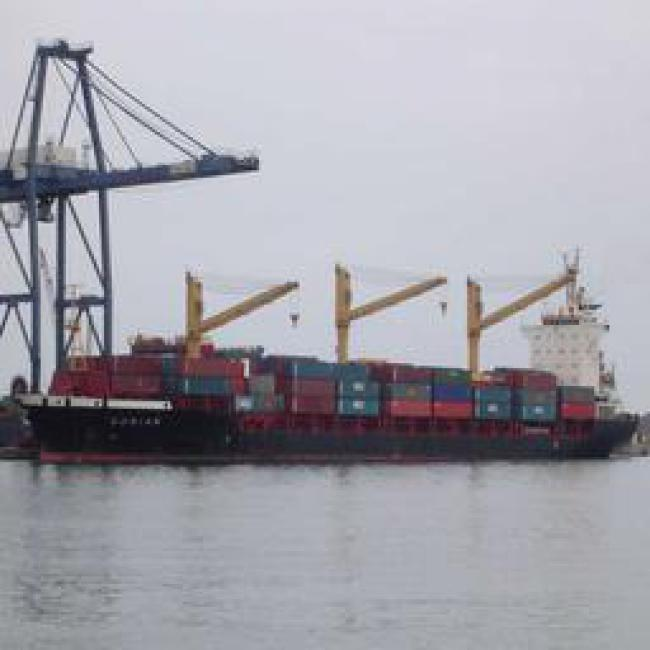Ship: (33, 326, 644, 469)
